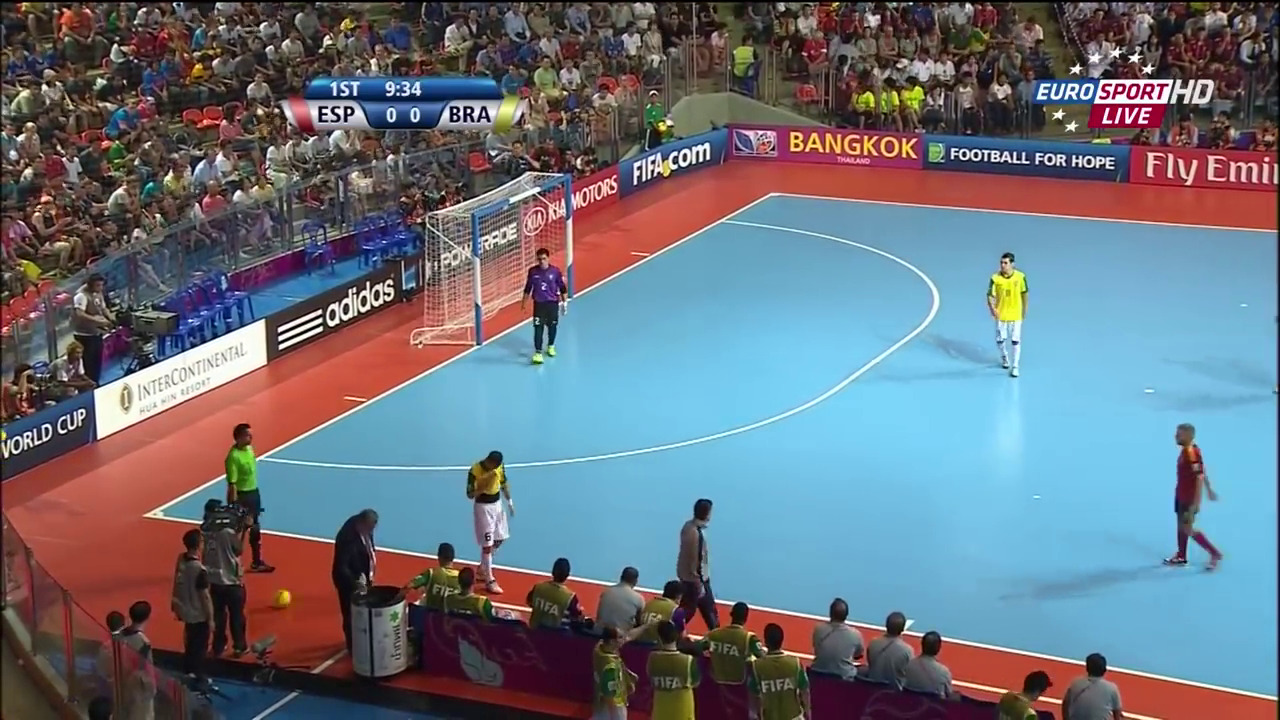ball: (269, 587, 293, 613)
person: (1158, 418, 1223, 572), (977, 251, 1034, 380), (517, 252, 571, 367)
